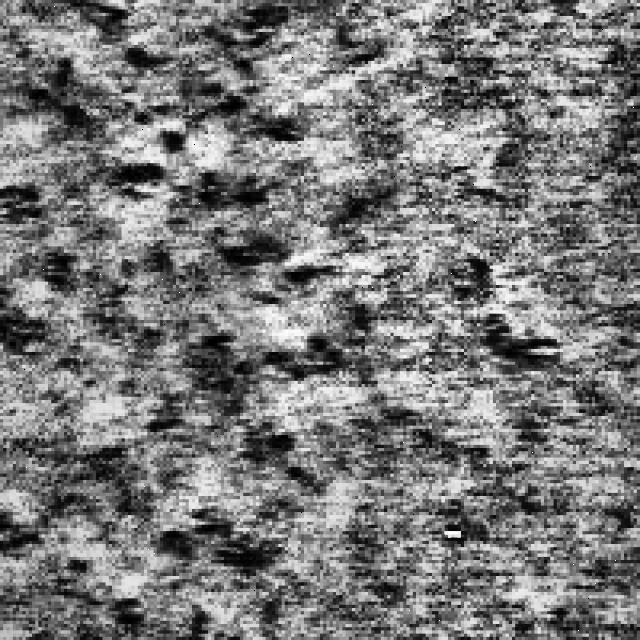Crazing: (28, 0, 313, 278), (54, 327, 333, 596)
